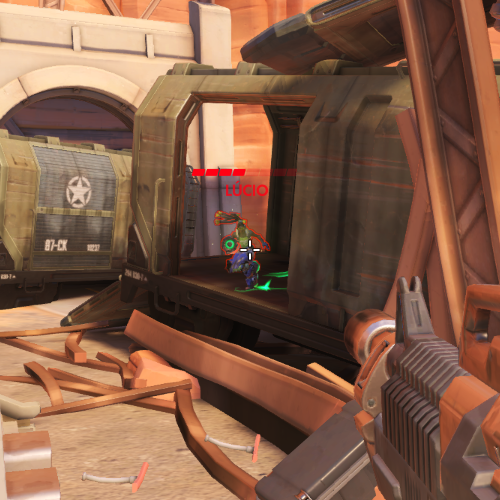hpbar: (191, 168, 297, 177)
